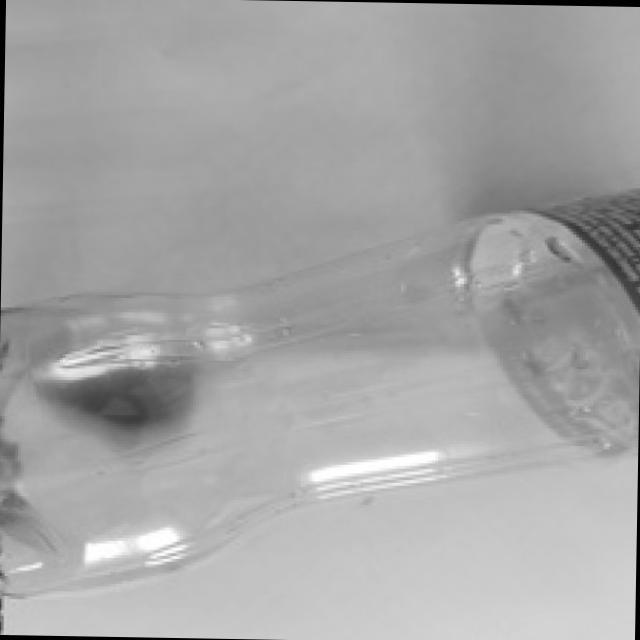good: (0, 185, 640, 623)
